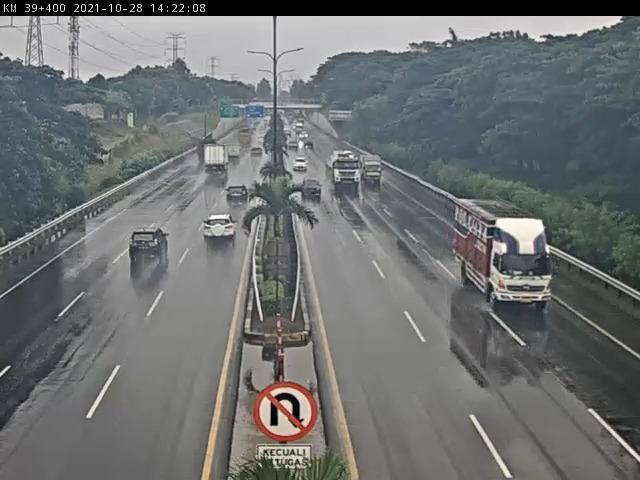car: (130, 227, 173, 264), (203, 213, 240, 242), (302, 176, 325, 200), (225, 185, 251, 206)
truck: (453, 201, 554, 314), (326, 150, 360, 186), (201, 145, 231, 177), (361, 155, 383, 184)
